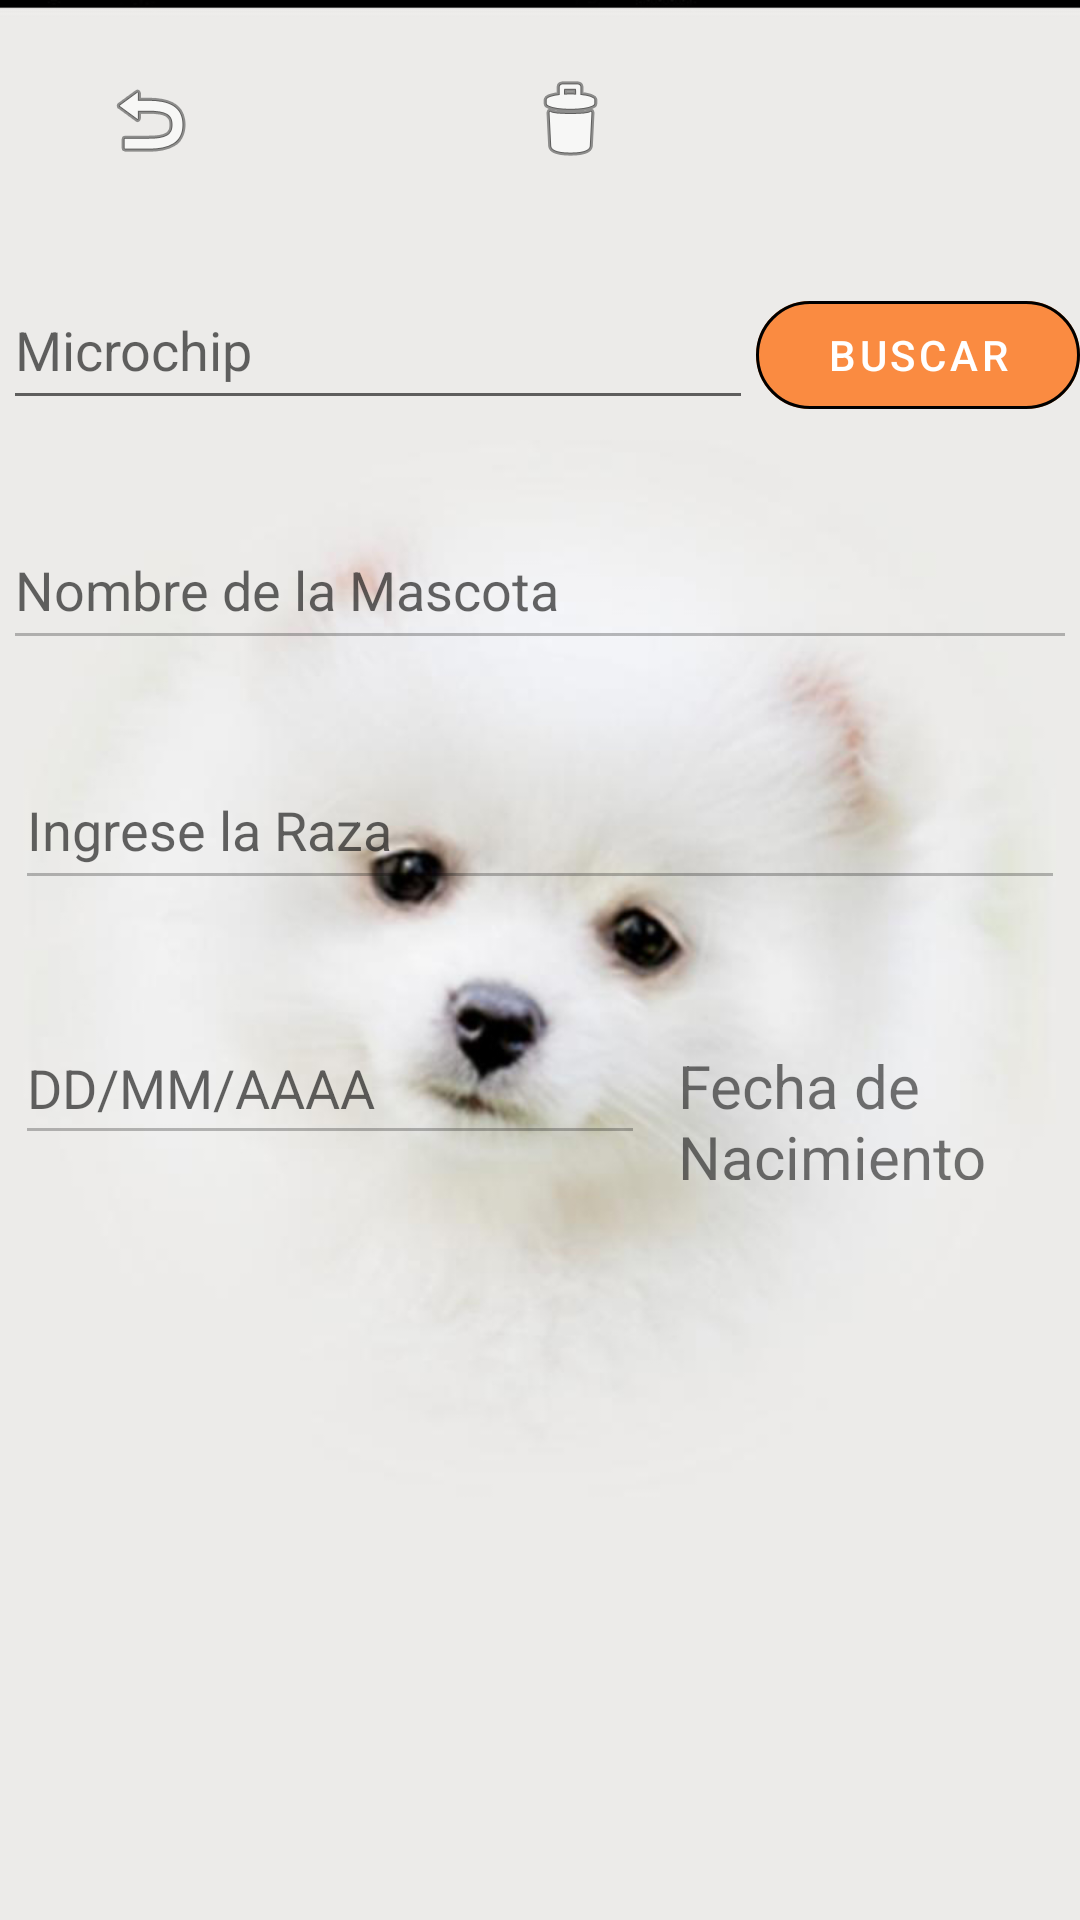

Icons on this 1080 × 1920 Android screen, each with the point to tap as (x=x, y=y):
delete: (x=570, y=118)
revert: (x=151, y=120)
